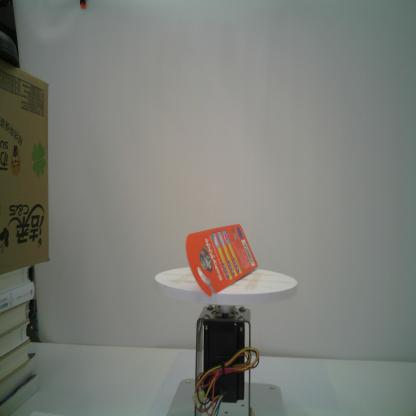Personal Hygiene: (185, 223, 258, 297)
